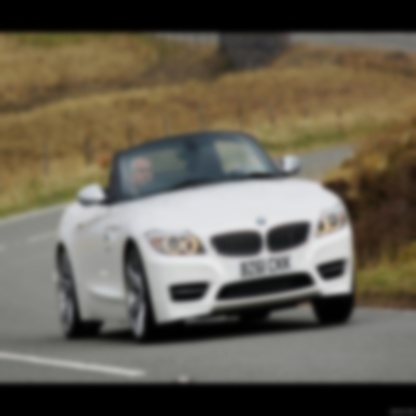Vehicle: (56, 118, 356, 347)
